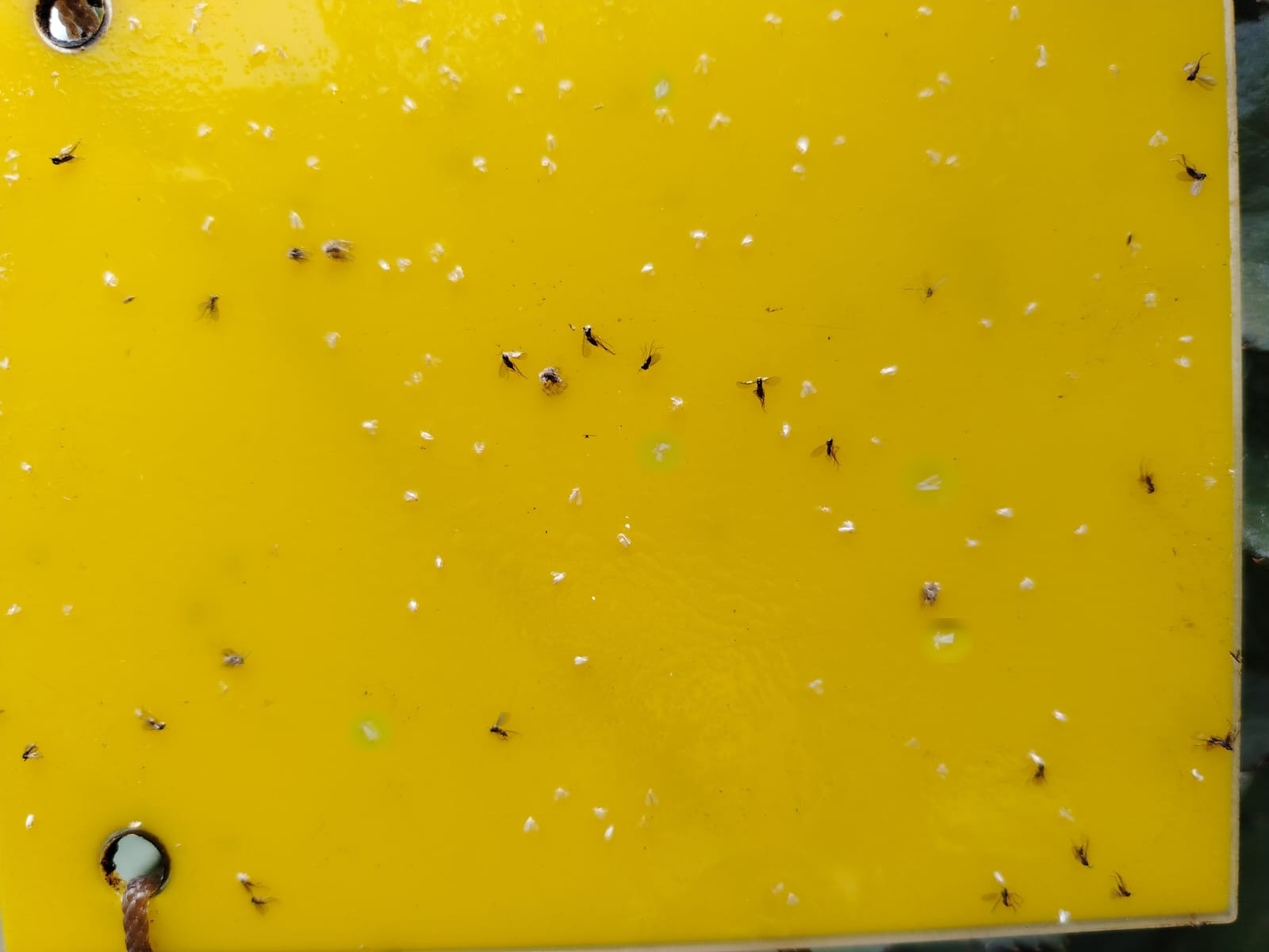WF: (906, 460, 954, 501), (927, 624, 964, 656), (641, 436, 677, 468), (353, 716, 386, 745), (650, 73, 673, 102), (707, 112, 734, 135), (692, 53, 715, 79), (355, 417, 384, 436), (654, 106, 677, 129), (1146, 130, 1171, 150), (798, 379, 820, 401), (835, 519, 858, 539), (103, 270, 123, 293), (540, 155, 560, 178), (642, 789, 665, 809), (558, 78, 579, 99), (569, 486, 587, 509), (924, 148, 944, 168), (763, 14, 784, 33), (521, 816, 542, 835), (289, 210, 306, 233), (302, 156, 325, 173), (795, 136, 815, 155), (404, 597, 424, 616), (1021, 301, 1042, 319), (786, 892, 807, 910), (1024, 749, 1046, 766), (807, 679, 829, 696), (415, 35, 434, 54), (402, 97, 420, 117), (994, 505, 1018, 520), (990, 869, 1010, 887), (943, 154, 964, 171), (688, 229, 711, 244), (197, 122, 216, 140), (324, 332, 343, 350), (1056, 908, 1074, 927), (617, 532, 635, 551), (792, 161, 809, 181), (637, 262, 658, 278), (913, 87, 937, 101), (962, 536, 983, 552), (1173, 355, 1195, 370), (251, 40, 269, 58), (937, 71, 955, 89), (741, 232, 758, 251), (550, 570, 569, 587), (473, 155, 489, 175), (554, 788, 574, 804), (1050, 709, 1071, 724), (592, 807, 614, 821), (879, 365, 901, 379), (397, 257, 415, 274), (1144, 291, 1161, 309), (472, 440, 490, 457), (535, 24, 550, 44), (402, 490, 422, 505), (778, 420, 792, 441), (126, 17, 144, 33), (4, 173, 25, 186), (1016, 578, 1037, 591), (669, 396, 686, 412), (58, 602, 77, 616), (1072, 524, 1091, 538), (5, 605, 25, 618), (376, 258, 392, 274), (1191, 767, 1206, 784), (545, 133, 558, 152), (827, 11, 846, 24), (573, 655, 592, 668), (512, 85, 527, 101), (1008, 6, 1022, 23), (918, 6, 936, 19), (247, 121, 262, 136), (447, 73, 462, 88), (1034, 44, 1048, 60), (771, 881, 787, 895), (433, 555, 447, 571), (443, 272, 460, 285), (604, 824, 617, 841), (420, 430, 437, 443), (978, 320, 996, 332), (5, 151, 21, 164), (25, 815, 37, 832), (832, 136, 849, 148), (454, 266, 468, 280), (328, 83, 341, 98), (19, 461, 34, 474), (1, 356, 13, 372), (938, 759, 950, 775), (1177, 336, 1196, 346), (126, 821, 144, 831), (438, 64, 453, 76), (190, 9, 206, 20), (264, 126, 276, 140), (1034, 60, 1049, 71), (189, 19, 199, 34), (200, 221, 213, 232), (871, 436, 882, 447), (205, 215, 217, 225), (197, 2, 210, 11)
